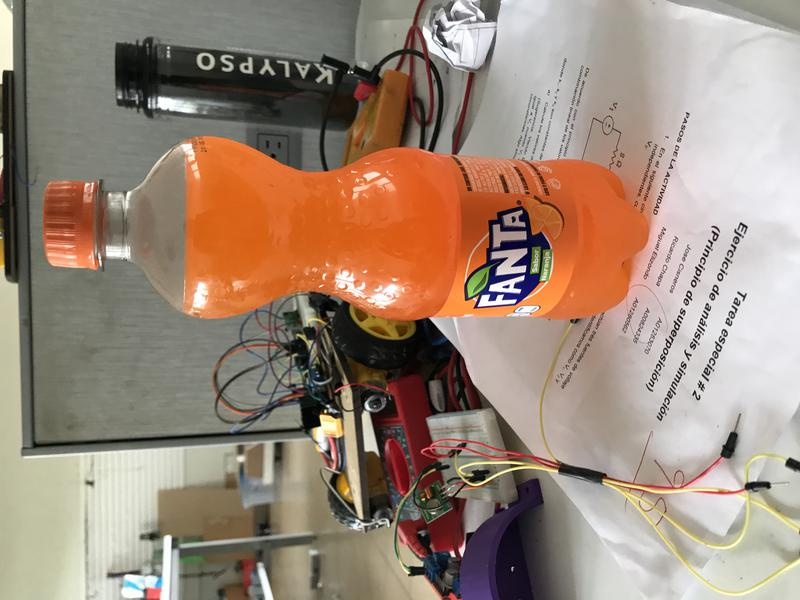fanta: (43, 135, 650, 322)
